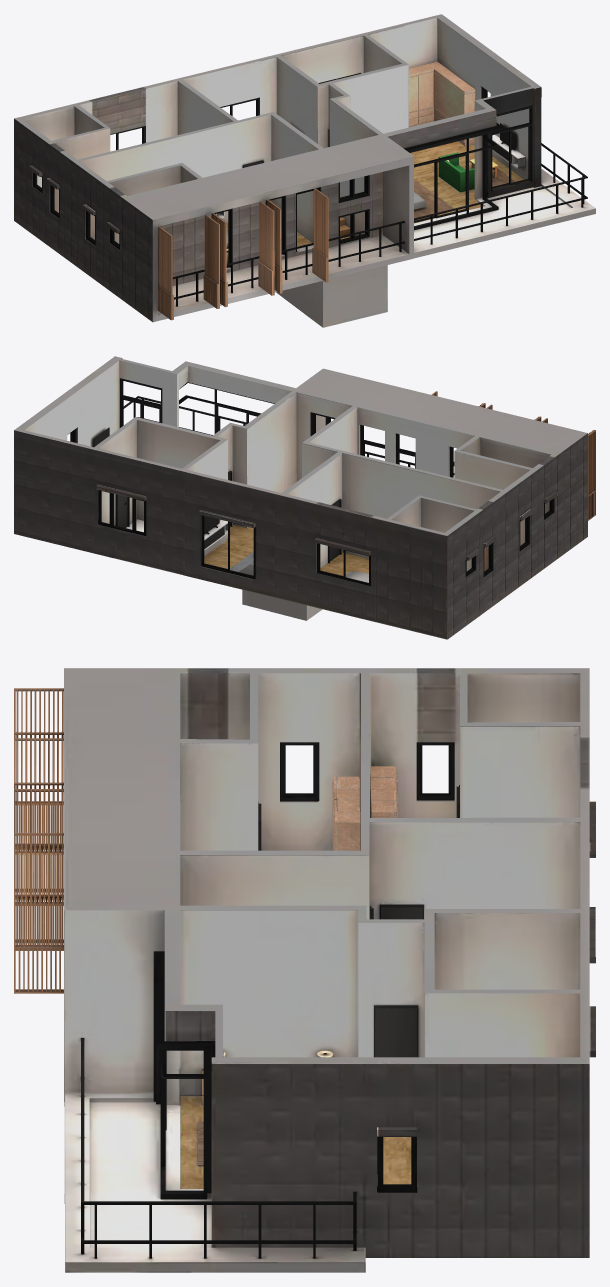
Rendered from SH2510_2ndFloorBaked_v05.gltf.
3 views of the same model, one above another, from view 1: azimuth 30°, elevation 25°; view 2: azimuth 150°, elevation 25°; view 3: azimuth 270°, elevation 25° (orthographic). The views are drawn at different scales.
Parts seen in each view (by area): view 1: polySurface2, Plane.006, Cube.145, Wood_mat3, pCube86, pCube100, brown4, Wood_mat13; view 2: polySurface2, Plane.006, pCube86, Cube.145, pCube125, Wood_mat13; view 3: polySurface2, Cube.145, Plane.006, Wood_mat3, pCube125, pCube86.
Boxes of the visible parts, x1,y1,x2,y2 form: polySurface2: (14, 14, 595, 327); Plane.006: (32, 73, 587, 306); Cube.145: (158, 188, 328, 320); Wood_mat3: (409, 61, 475, 145); pCube86: (226, 141, 523, 246); pCube100: (414, 167, 514, 218); brown4: (438, 152, 474, 192); Wood_mat13: (216, 134, 525, 218); polySurface2: (14, 356, 587, 639); Plane.006: (68, 378, 553, 586); pCube86: (126, 519, 368, 575); Cube.145: (431, 391, 595, 520); pCube125: (115, 471, 341, 563); Wood_mat13: (204, 520, 227, 550); polySurface2: (64, 668, 595, 1272); Cube.145: (14, 688, 63, 993); Plane.006: (81, 742, 454, 1258); Wood_mat3: (332, 766, 397, 850); pCube125: (258, 785, 459, 1057); pCube86: (180, 1096, 411, 1188).
Size of the model in its own units: 17.2 by 6.46 by 10.25.
Materials: 17 (16 with a texture image).
